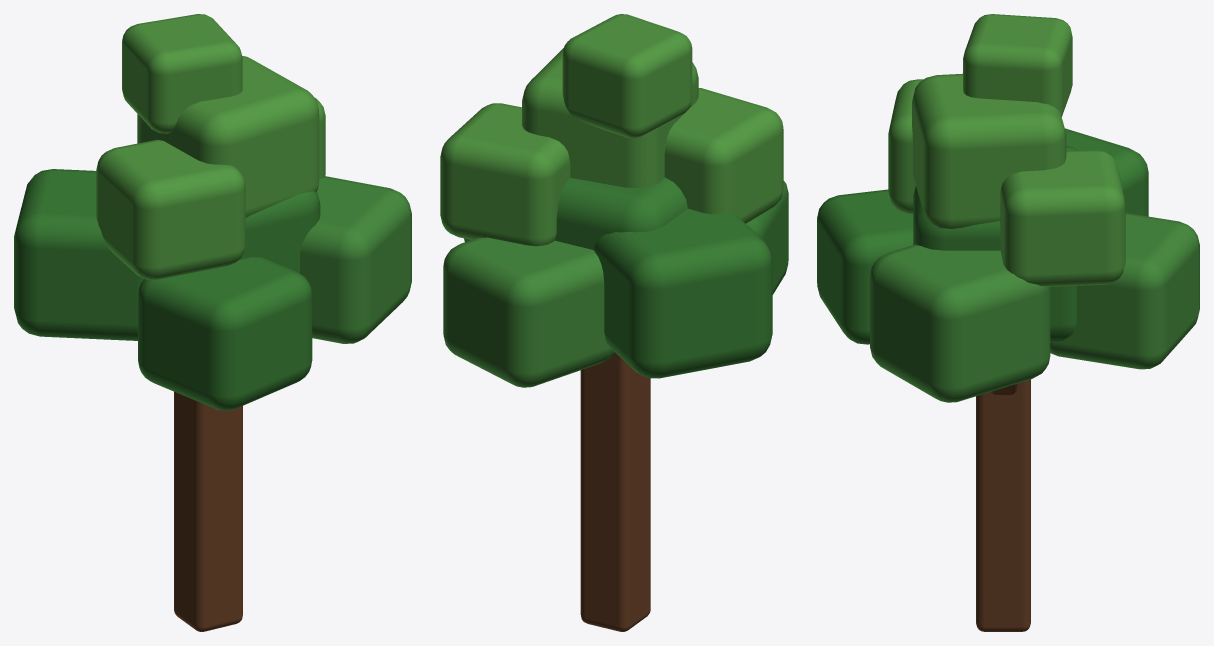
File: tree.glb
3 renders of one model, left to right at view 1: azimuth 30°, elevation 25°; view 2: azimuth 150°, elevation 25°; view 3: azimuth 270°, elevation 25°, orthographic. The views are drawn at different scales.
Visible parts, largest first — view 1: Tree; view 2: Tree; view 3: Tree.
Boxes of the visible parts, bbox=[...] form: Tree: bbox=[14, 14, 411, 631]; Tree: bbox=[440, 14, 788, 631]; Tree: bbox=[817, 14, 1199, 631].
Size of the model in its own units: 2.73 by 4.46 by 2.65.
